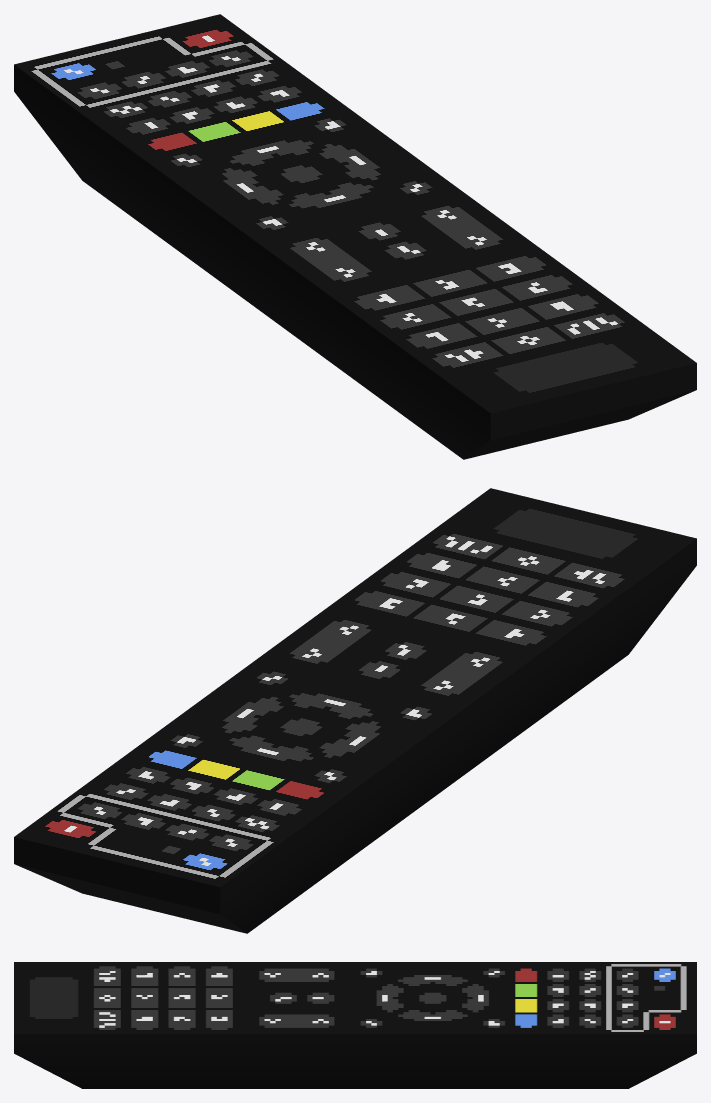
File: RemoteController.fbx
The picture shows the model from 3 angles, top to bottom: view 1: azimuth 30°, elevation 25°; view 2: azimuth 150°, elevation 25°; view 3: azimuth 270°, elevation 25°; orthographic projection. The views are drawn at different scales.
Visible parts, largest first — view 1: Cube; view 2: Cube; view 3: Cube.
Part boxes in pixels (x1=…): Cube: x1=14, y1=14, x2=696, y2=459; Cube: x1=14, y1=488, x2=696, y2=933; Cube: x1=14, y1=962, x2=696, y2=1088.
Size of the model in its own units: 2 by 0.8 by 8.
Materials: 1 (1 with a texture image).
